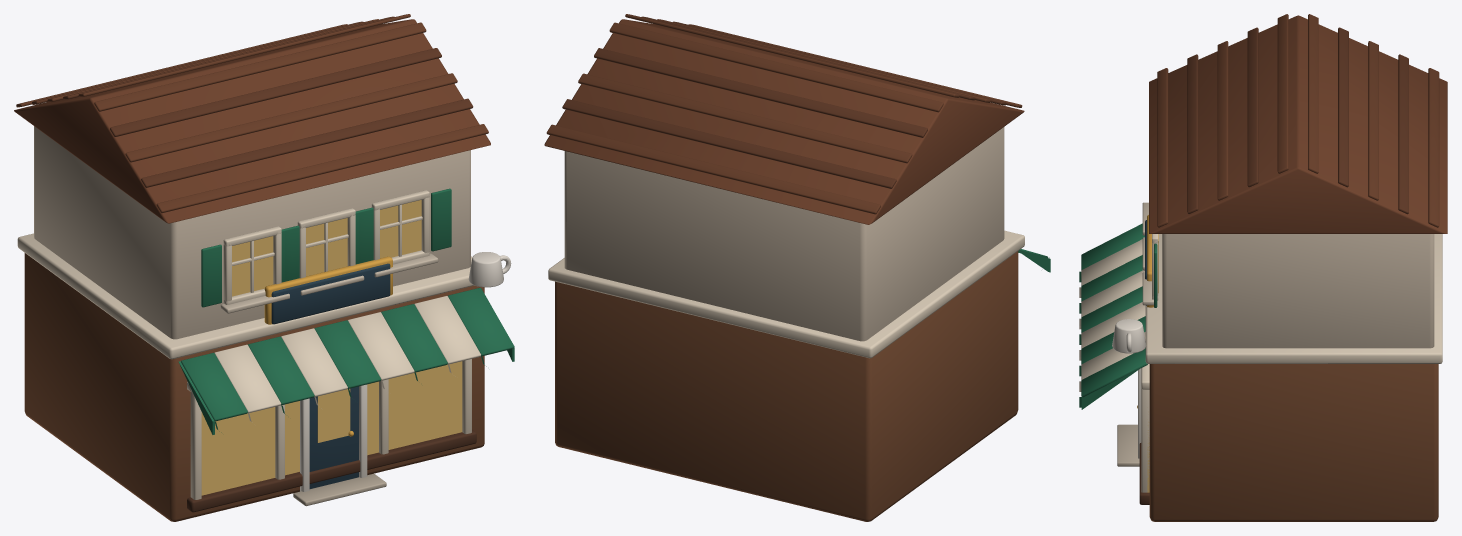
The model's file is bld_cafe.glb.
3 views of the same model, side by side, from view 1: azimuth 30°, elevation 25°; view 2: azimuth 150°, elevation 25°; view 3: azimuth 270°, elevation 25° (orthographic). The views are drawn at different scales.
Visible parts, largest first — view 1: bld_cafe, Glass_bld_cafe; view 2: bld_cafe; view 3: bld_cafe.
Part boxes in pixels (x1,y1,x2,y2): bld_cafe: [14, 14, 514, 521]; Glass_bld_cafe: [201, 200, 462, 495]; bld_cafe: [544, 14, 1050, 521]; bld_cafe: [1079, 14, 1447, 521].
Size of the model in its own units: 9.03 by 9.61 by 8.93.
